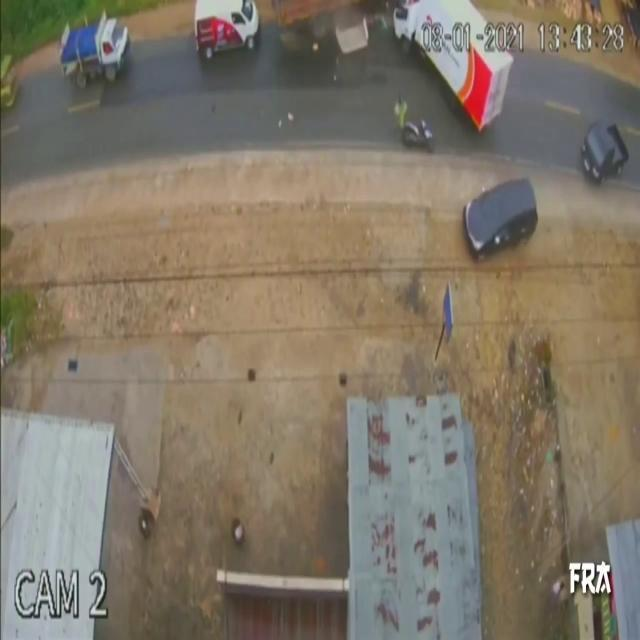accident: (273, 0, 515, 134)
